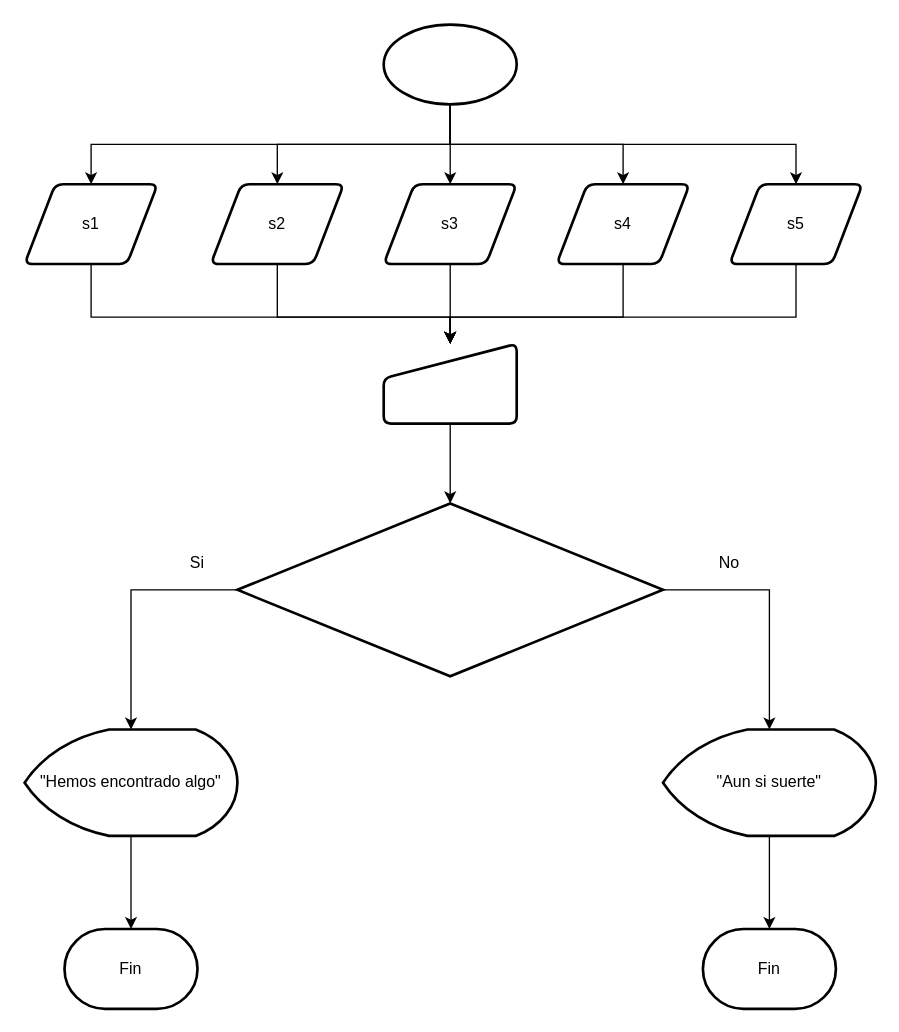
Some shapes in this 899 by 1032 pixel diagram are drawn without their labels. Here are the shapes that lost their labels. From the top down, the centre of each, then its label:
At [449,64]: "Inicio".
At [449,383]: "input all s".
At [449,589]: "Primera letra de s1 = Primera letra de s5".
